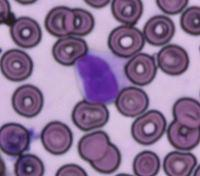M: (74, 49, 128, 104)
